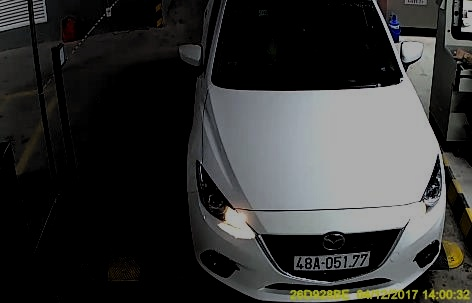plate: (293, 246, 370, 268)
